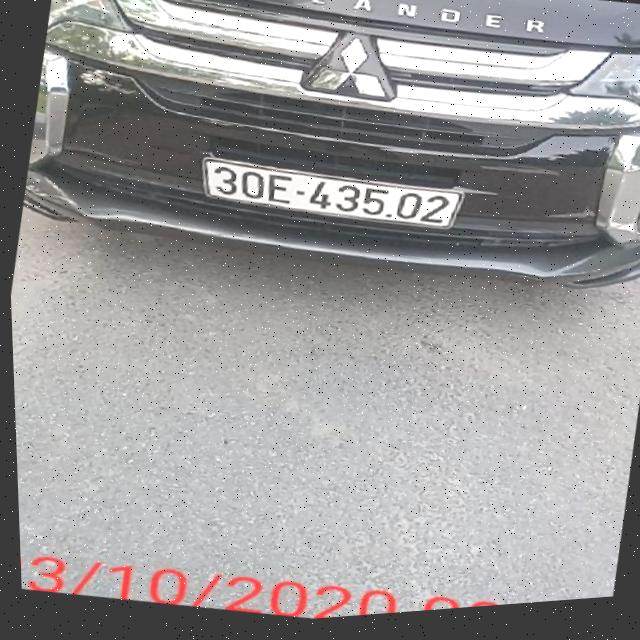car: (11, 0, 640, 340)
plate: (195, 132, 468, 253)
